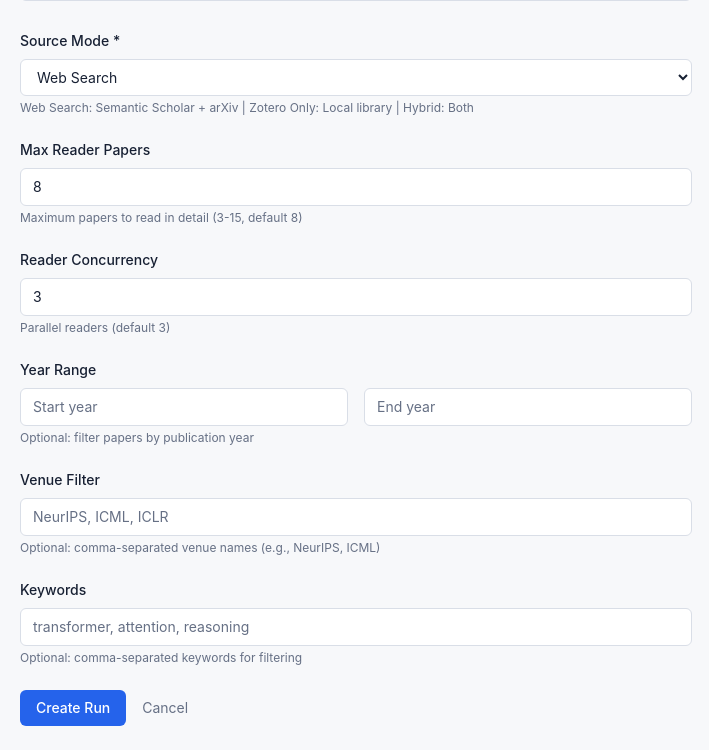
Test case: NewRunPage › validates required fields
(page scrolled)
Click the button "Create Run" at (73, 708), box [20,690,126,726]
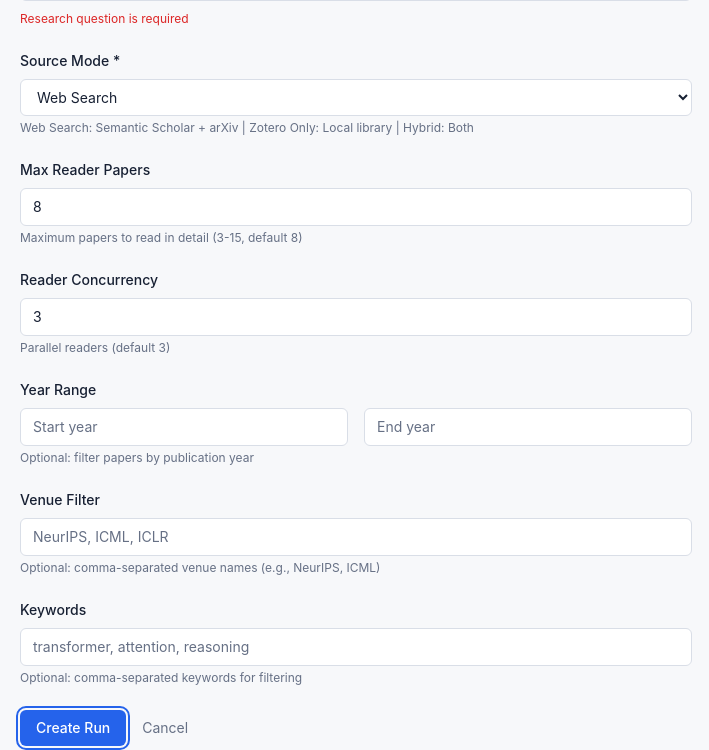
Expected: the text "Research question is required" is shown, [20,11,189,26]
